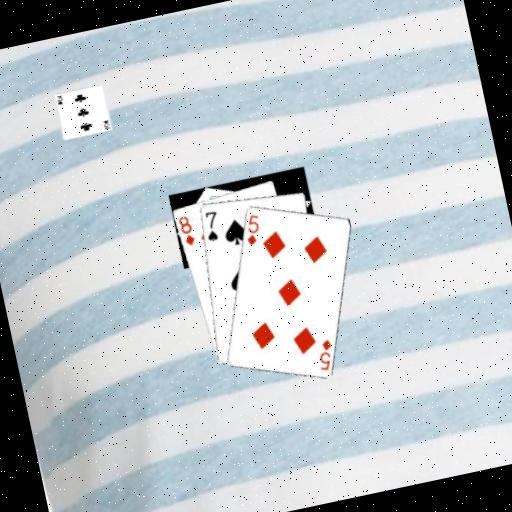5D: (238, 210, 265, 248), (311, 335, 338, 373)
7S: (198, 207, 223, 244)
8D: (174, 212, 196, 249)
